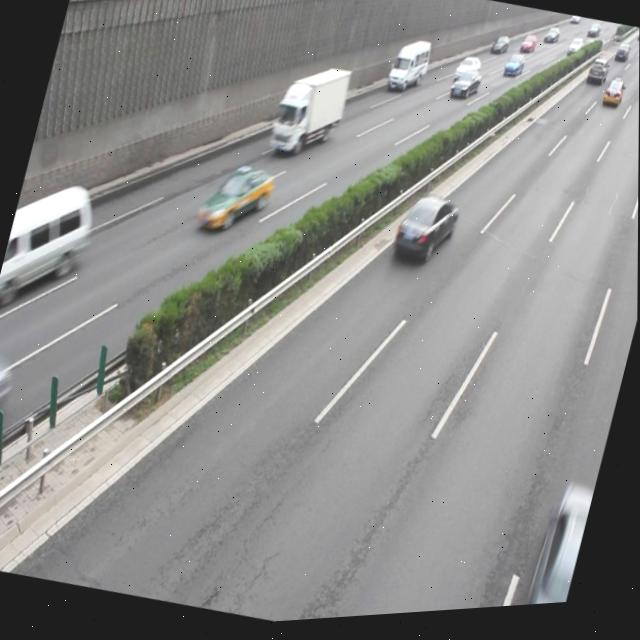bus: (266, 60, 352, 168)
car: (514, 484, 595, 613), (193, 157, 277, 245), (389, 192, 460, 276)
truck: (0, 172, 101, 308)
